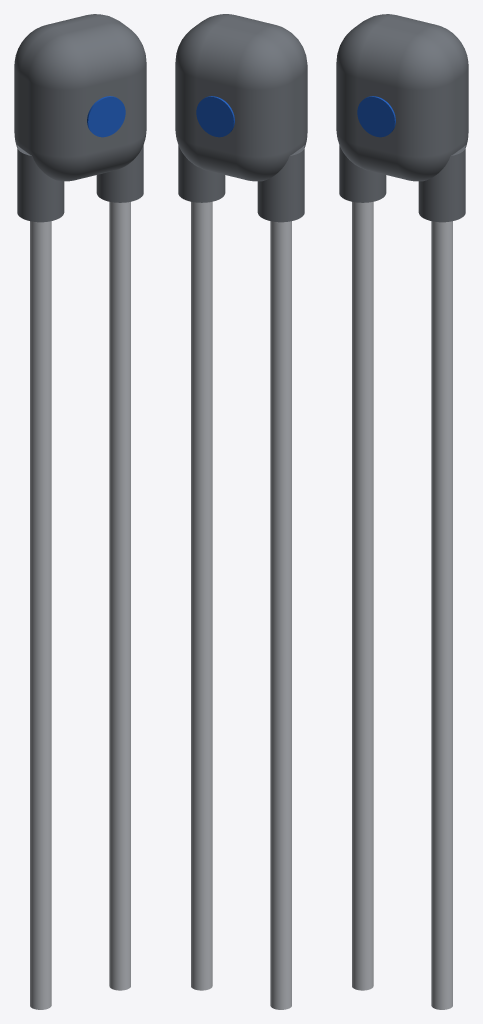
File: thermistor-ntc-10k.glb
3 views of the same model, side by side, from view 1: azimuth 30°, elevation 25°; view 2: azimuth 150°, elevation 25°; view 3: azimuth 330°, elevation 25° (orthographic).
Visible parts, largest first — view 1: object 1, lead-2, lead-1, object 2; view 2: object 1, lead-2, lead-1, object 2; view 3: object 1, lead-1, lead-2, object 2.
Boxes of the visible parts, x1,y1,x2,y2 form: object 1: [14, 14, 146, 222]; lead-2: [109, 202, 130, 990]; lead-1: [30, 221, 51, 1009]; object 2: [87, 96, 125, 137]; object 1: [175, 14, 307, 222]; lead-2: [191, 201, 212, 990]; lead-1: [270, 221, 291, 1009]; object 2: [196, 96, 234, 137]; object 1: [336, 14, 468, 222]; lead-1: [352, 202, 373, 990]; lead-2: [431, 221, 452, 1009]; object 2: [357, 96, 395, 137].
Bounding box in the file's own units: 0.00384 × 0.0296 × 0.00292.
